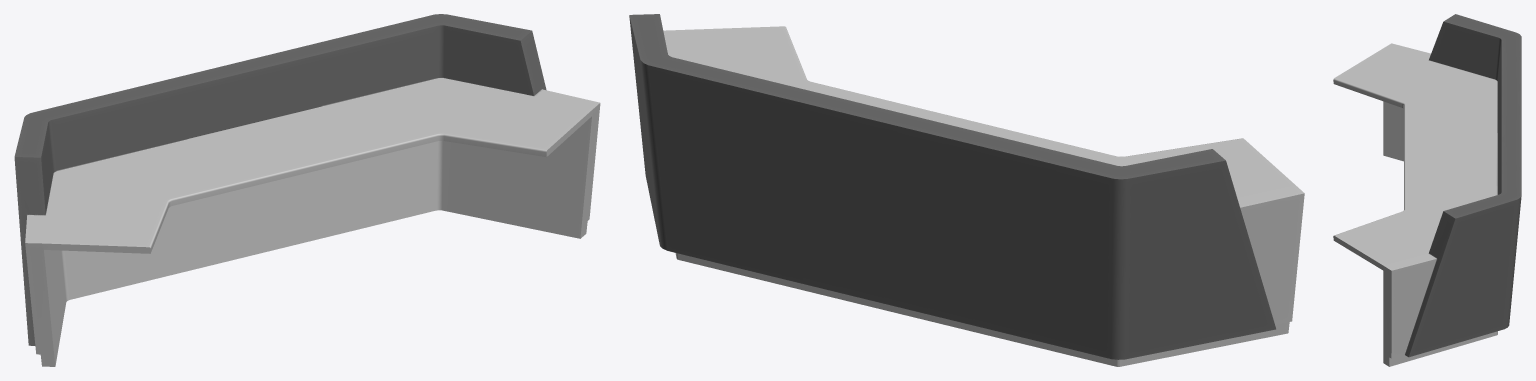
File: ReceptionTable.fbx
The picture shows the model from 3 angles, left to right: view 1: azimuth 30°, elevation 25°; view 2: azimuth 150°, elevation 25°; view 3: azimuth 270°, elevation 25°; orthographic projection. The views are drawn at different scales.
Visible parts, largest first — view 1: ReceptionTable; view 2: ReceptionTable; view 3: ReceptionTable.
Part boxes in pixels (left/top/right/bottom): ReceptionTable: left=14, top=14, right=600, bottom=366; ReceptionTable: left=629, top=14, right=1304, bottom=366; ReceptionTable: left=1333, top=14, right=1521, bottom=366.
Bounding box in the file's own units: 365 × 107 × 128.
